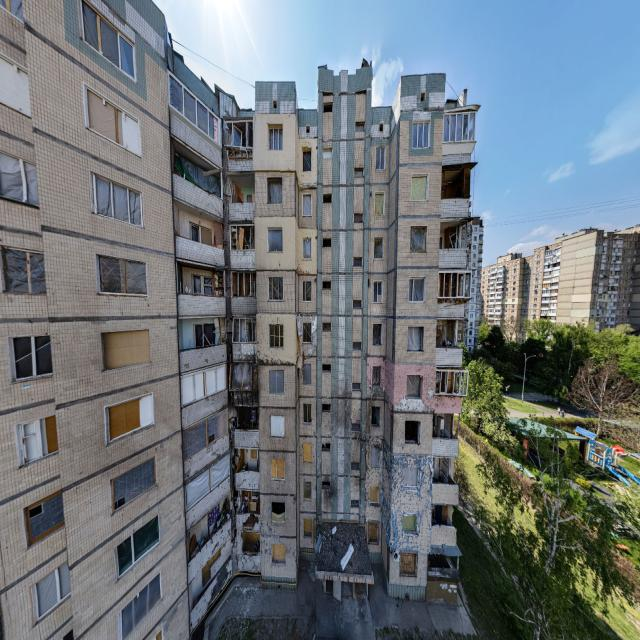broken_window: (82, 0, 136, 81), (167, 70, 221, 148), (85, 86, 142, 158), (93, 171, 144, 227), (30, 558, 72, 623), (111, 455, 157, 514), (121, 568, 161, 635), (116, 519, 158, 582), (106, 393, 155, 444), (24, 491, 66, 549), (18, 411, 60, 467), (0, 149, 39, 207), (96, 252, 148, 295), (2, 246, 47, 293), (101, 330, 152, 371), (177, 314, 227, 355), (11, 332, 52, 379), (0, 58, 31, 120), (177, 261, 226, 296), (439, 163, 473, 196), (444, 111, 476, 141), (412, 119, 429, 148), (406, 324, 423, 350), (268, 228, 284, 255), (410, 226, 426, 252), (267, 177, 283, 202), (267, 276, 283, 300), (270, 372, 285, 396), (412, 176, 427, 200), (271, 415, 285, 439), (410, 281, 425, 302), (272, 461, 284, 483), (375, 146, 384, 169), (374, 193, 383, 214), (303, 279, 311, 301), (302, 403, 311, 421), (304, 365, 312, 385), (303, 198, 312, 215), (303, 150, 311, 168), (376, 237, 383, 257), (374, 281, 381, 301), (303, 240, 310, 258), (374, 324, 381, 342)
building: (0, 0, 479, 640)
damage: (259, 210, 473, 605), (171, 117, 318, 640)
other: (153, 0, 640, 640)
roof: (253, 79, 318, 109), (390, 68, 445, 102), (153, 0, 181, 57), (187, 65, 230, 95), (346, 62, 372, 103), (466, 86, 479, 102), (235, 100, 244, 109), (337, 69, 344, 77), (326, 69, 335, 75), (460, 86, 466, 92), (372, 102, 390, 104), (445, 98, 457, 100), (244, 109, 253, 111), (457, 92, 460, 98), (321, 68, 326, 69)
